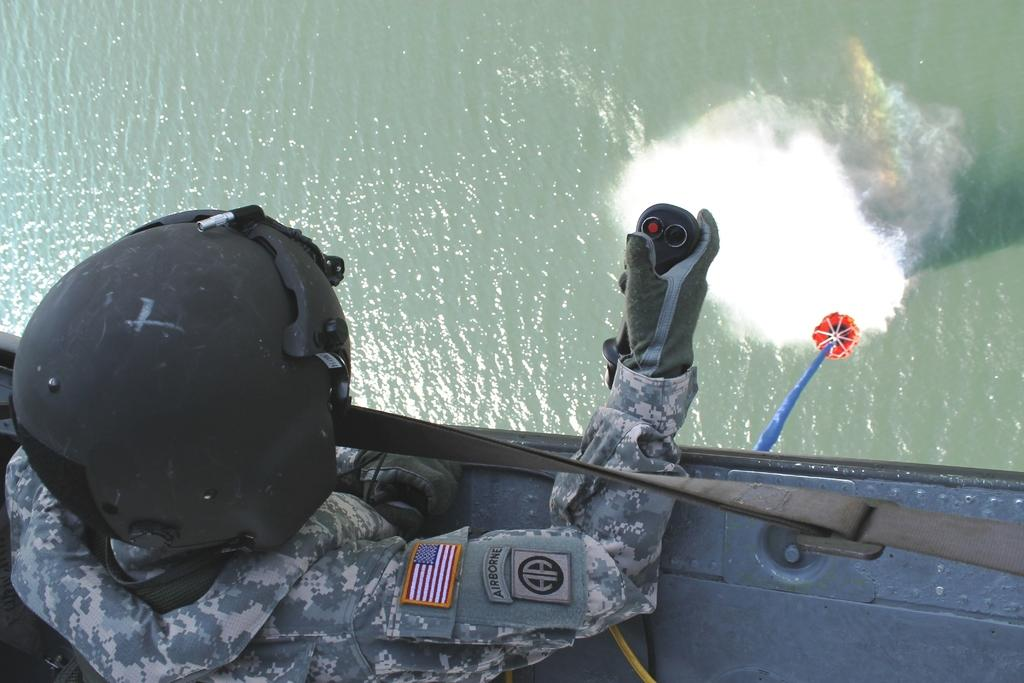helmet: (11, 209, 351, 551)
